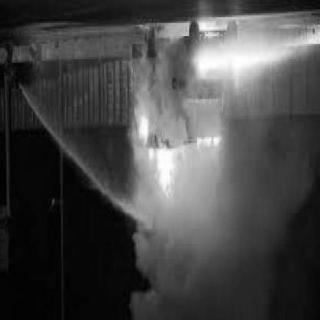Fire: (129, 80, 230, 198)
